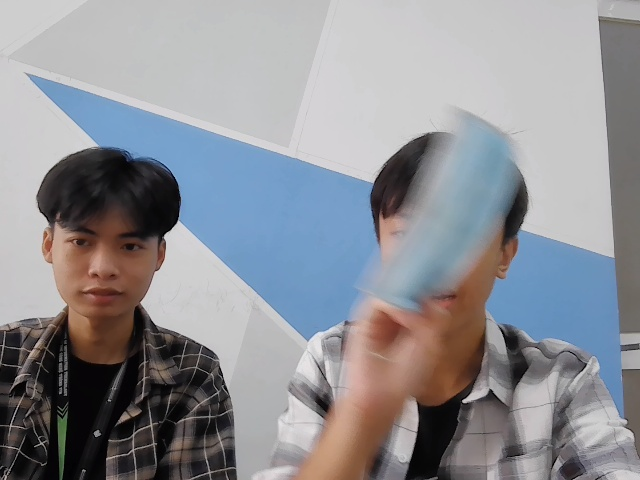human: (35, 145, 180, 325)
